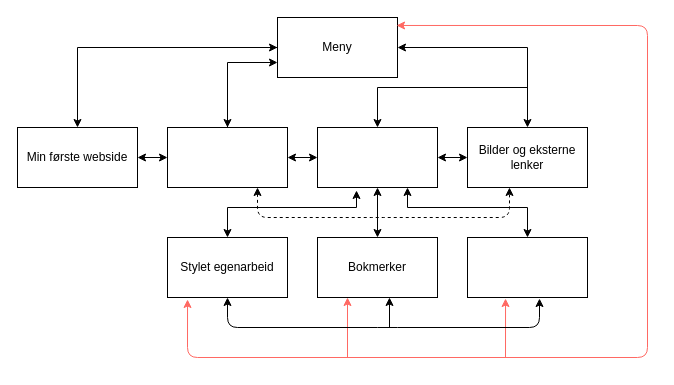
The diagram is 674 pixels wide and 385 high, and some of its shapes have lost their labels. Each missing label, with the centre of its shape:
"Lister" belongs at point (377, 157).
"Stikkordliste" belongs at point (527, 267).
"Styling av tekst" belongs at point (227, 157).
